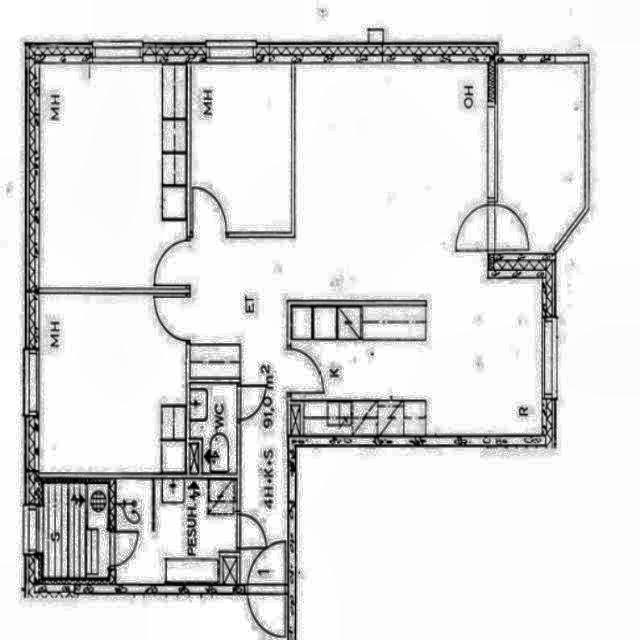room: (39, 64, 187, 288), (39, 293, 186, 473), (191, 64, 291, 232), (496, 65, 585, 253), (116, 478, 237, 584), (43, 485, 109, 581), (190, 384, 237, 474)
